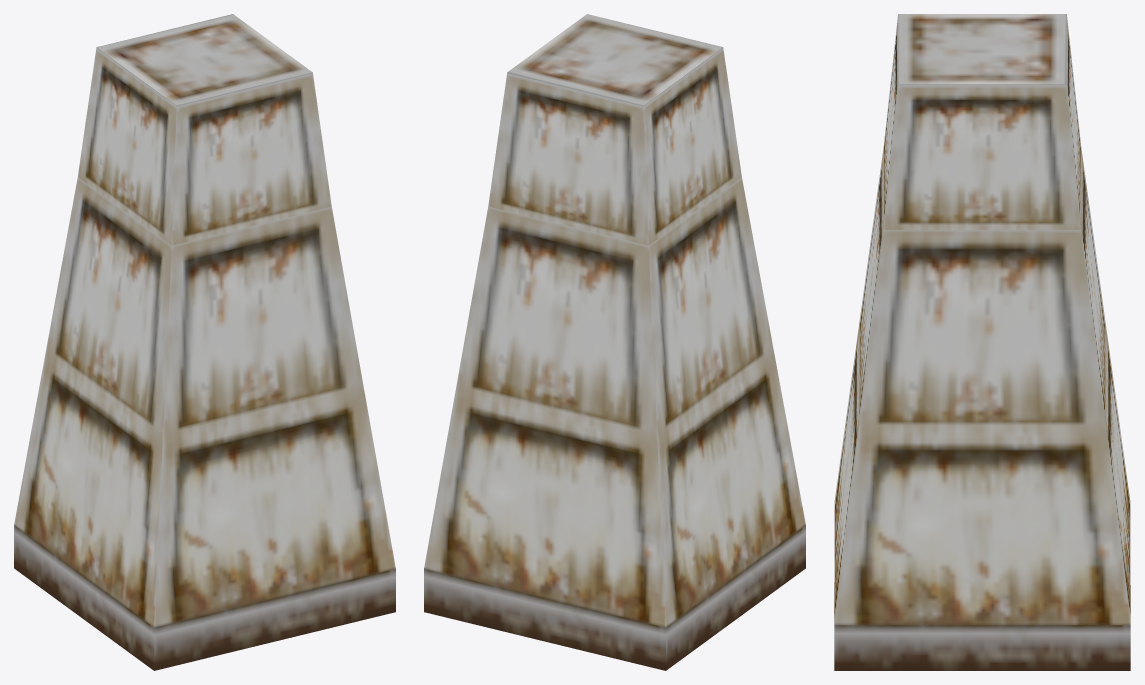
File: d_mediumpost.glb
3 renders of one model, left to right at view 1: azimuth 30°, elevation 25°; view 2: azimuth 150°, elevation 25°; view 3: azimuth 270°, elevation 25°, orthographic. The views are drawn at different scales.
Visible parts, largest first — view 1: D_MediumPost; view 2: D_MediumPost; view 3: D_MediumPost.
Part boxes in pixels (x1,y1,x2,y2): D_MediumPost: (14, 14, 395, 670); D_MediumPost: (424, 14, 805, 670); D_MediumPost: (834, 14, 1130, 670).
Size of the model in its own units: 5.48 by 11.5 by 5.52.
1 material, 1 textured.
